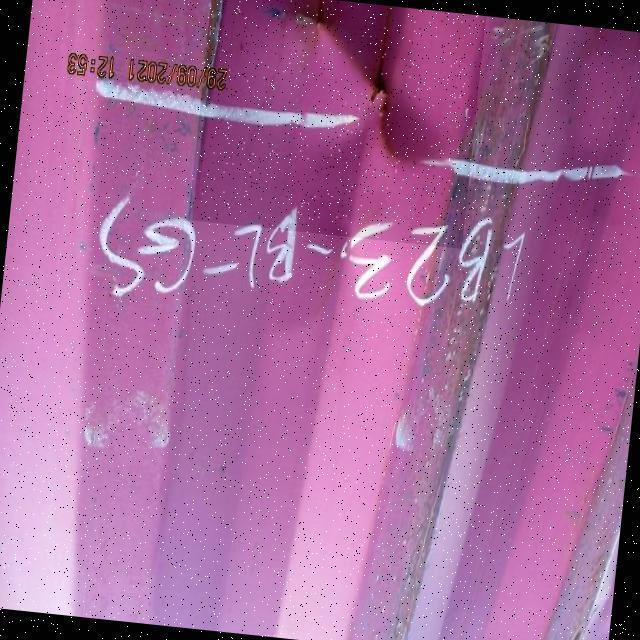dent: (188, 1, 486, 249)
